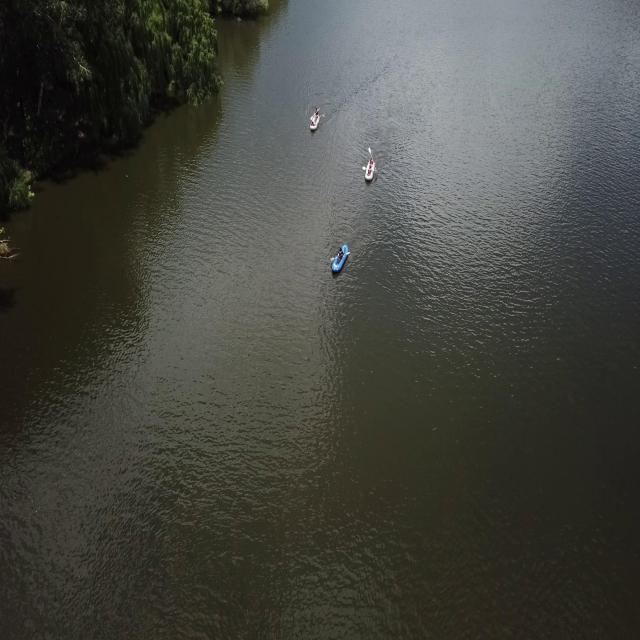kayak: (330, 241, 350, 278), (361, 158, 380, 188), (309, 106, 321, 138)
